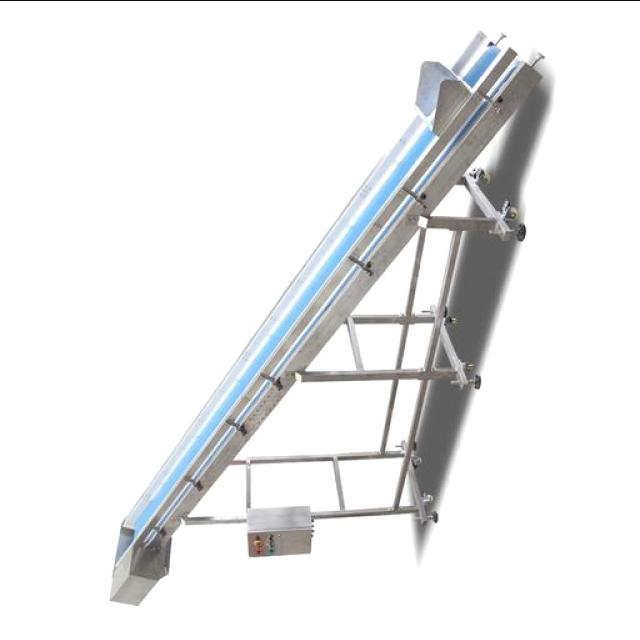conveyor: (121, 33, 513, 562)
